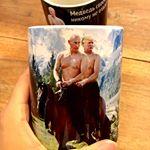cups: (24, 21, 127, 150)
